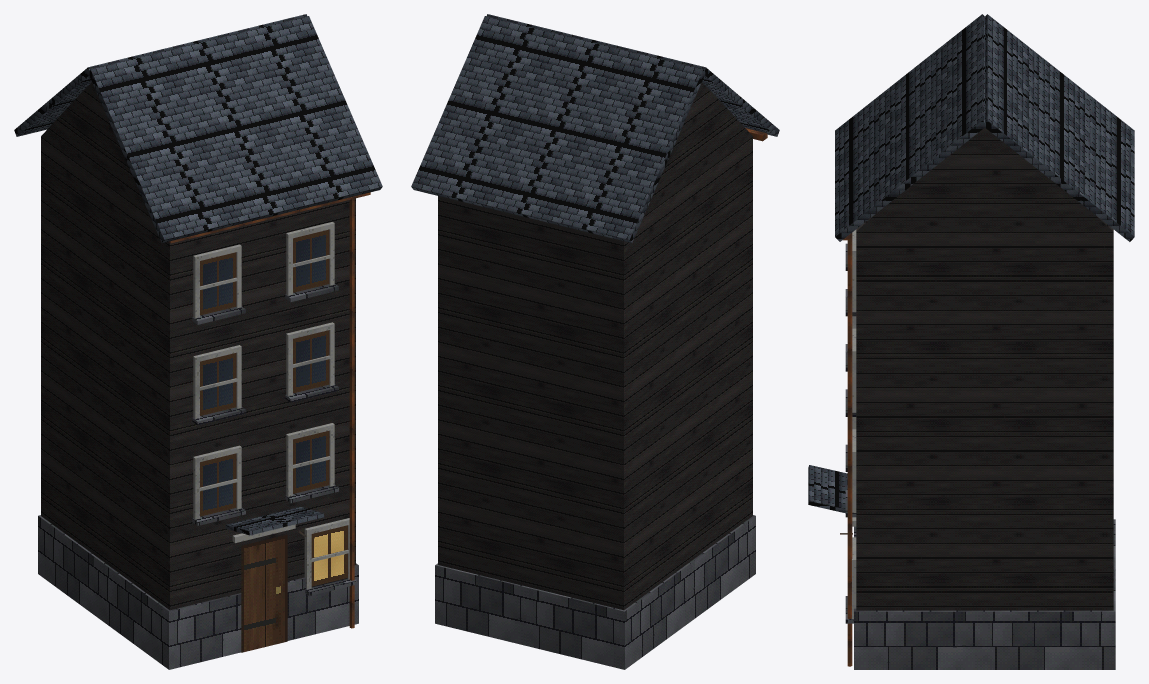
The model's file is casa_niebla.obj.
3 views of the same model, side by side, from view 1: azimuth 30°, elevation 25°; view 2: azimuth 150°, elevation 25°; view 3: azimuth 270°, elevation 25° (orthographic).
Visible parts, largest first — view 1: casa_niebla; view 2: casa_niebla; view 3: casa_niebla.
Boxes of the visible parts, <box> form: casa_niebla: <box>14,14,382,669</box>; casa_niebla: <box>411,14,779,669</box>; casa_niebla: <box>808,14,1134,669</box>.
Bounding box in the file's own units: 4.7 × 11.45 × 6.09.
Materials: 9 (9 with a texture image).
